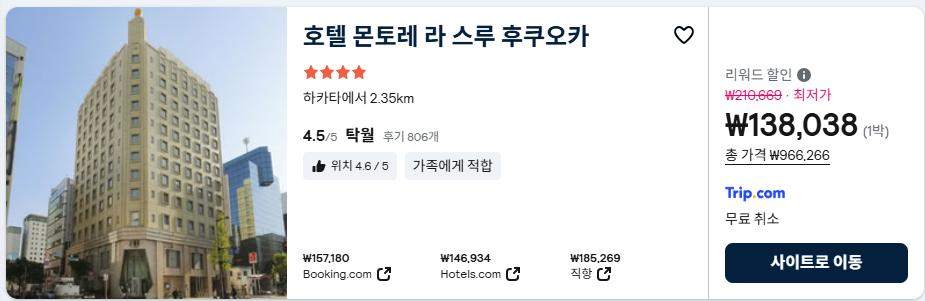button: (726, 240, 908, 287), (303, 266, 397, 281), (429, 267, 527, 279), (573, 265, 619, 281), (674, 26, 699, 37)
